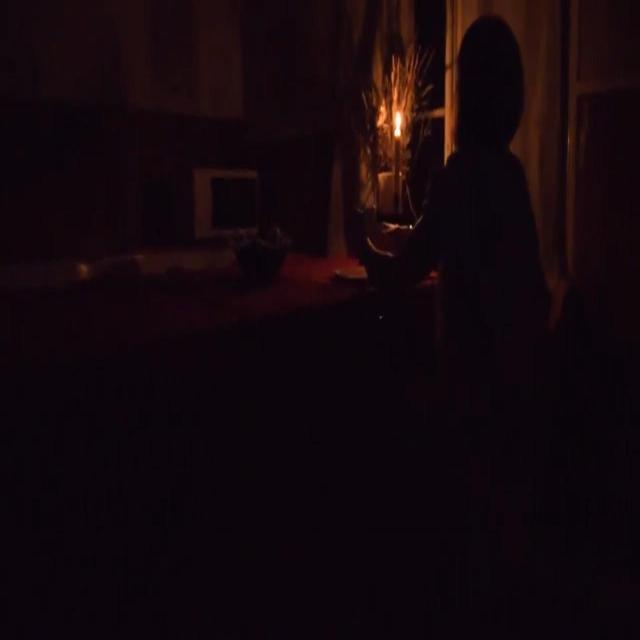smoke: (392, 106, 404, 136)
